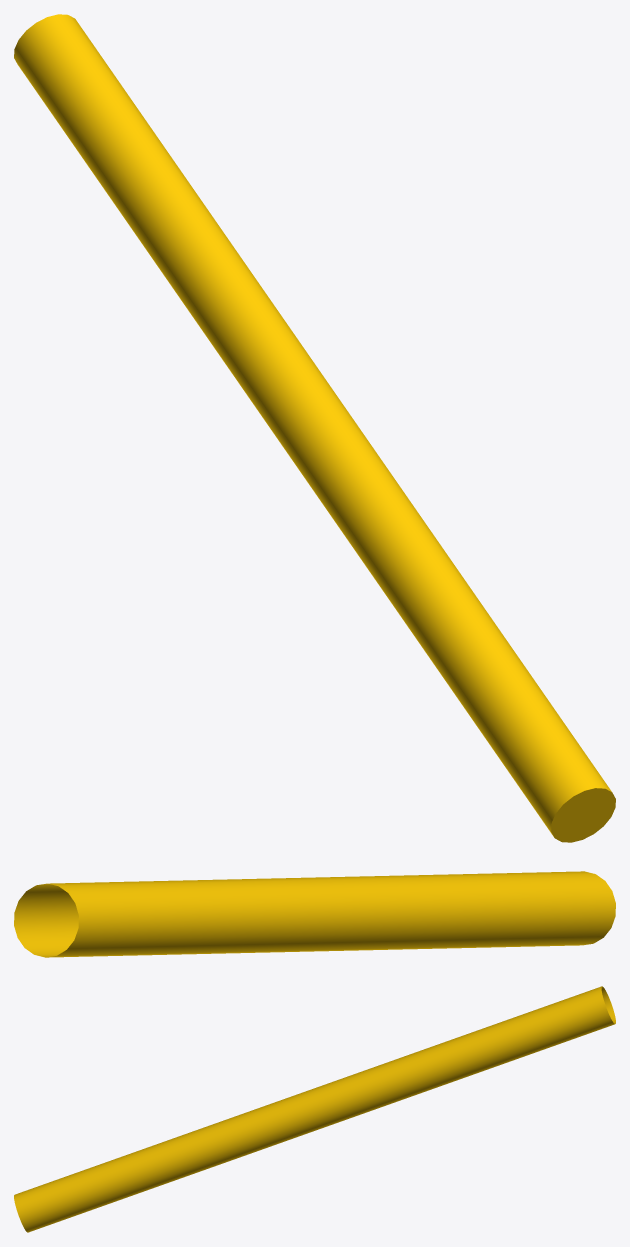
Rendered from Valla5.FBX.
The picture shows the model from 3 angles, top to bottom: view 1: azimuth 30°, elevation 25°; view 2: azimuth 150°, elevation 25°; view 3: azimuth 270°, elevation 25°; orthographic projection. The views are drawn at different scales.
Visible parts, largest first — view 1: Valla5; view 2: Valla5; view 3: Valla5.
Boxes of the visible parts, x1,y1,x2,y2 form: Valla5: [14, 14, 615, 842]; Valla5: [14, 871, 615, 957]; Valla5: [14, 986, 615, 1232].
Size of the model in its own units: 5.12 by 33.66 by 75.85.
